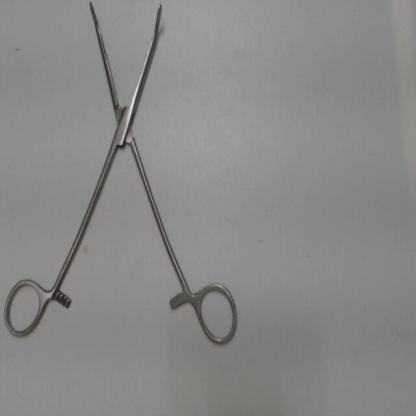Lahey Forceps: (1, 0, 245, 352)
